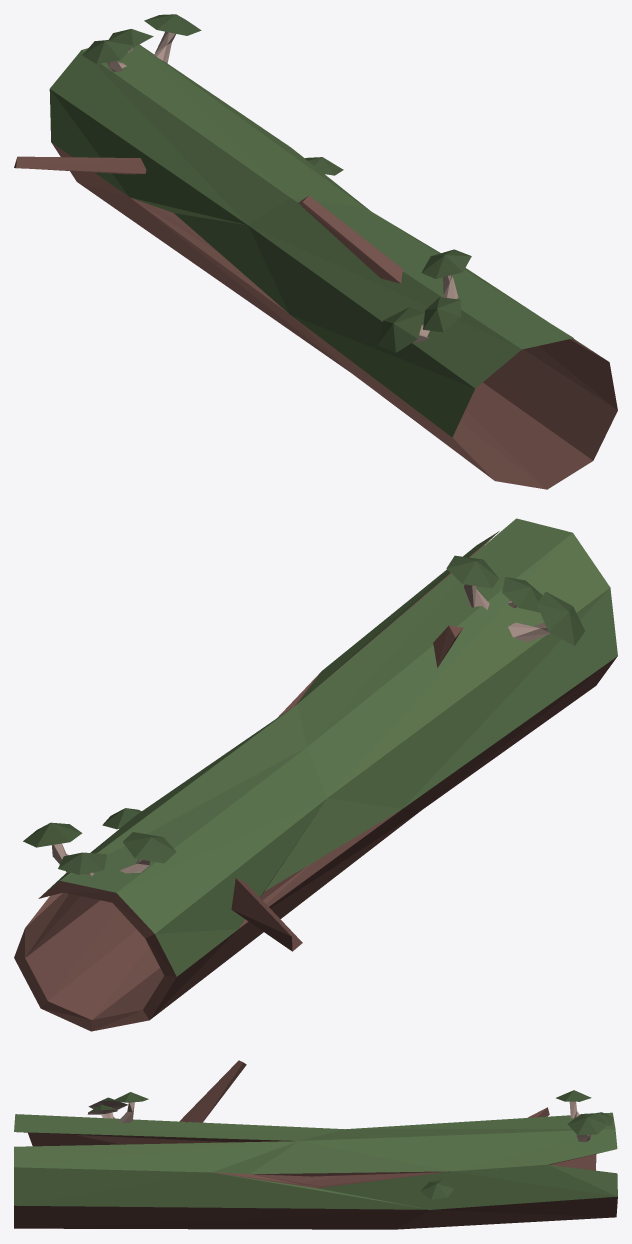
Rendered from WoodLog_Moss.lod1.glb.
The picture shows the model from 3 angles, top to bottom: view 1: azimuth 30°, elevation 25°; view 2: azimuth 150°, elevation 25°; view 3: azimuth 270°, elevation 25°; orthographic projection. The views are drawn at different scales.
Visible parts, largest first — view 1: WoodLog_Moss; view 2: WoodLog_Moss; view 3: WoodLog_Moss.
Boxes of the visible parts, left/top/right/bottom form: WoodLog_Moss: left=14, top=14, right=617, bottom=489; WoodLog_Moss: left=14, top=518, right=617, bottom=1031; WoodLog_Moss: left=14, top=1060, right=617, bottom=1229.
Size of the model in its own units: 0.8982 by 0.673 by 2.67.
